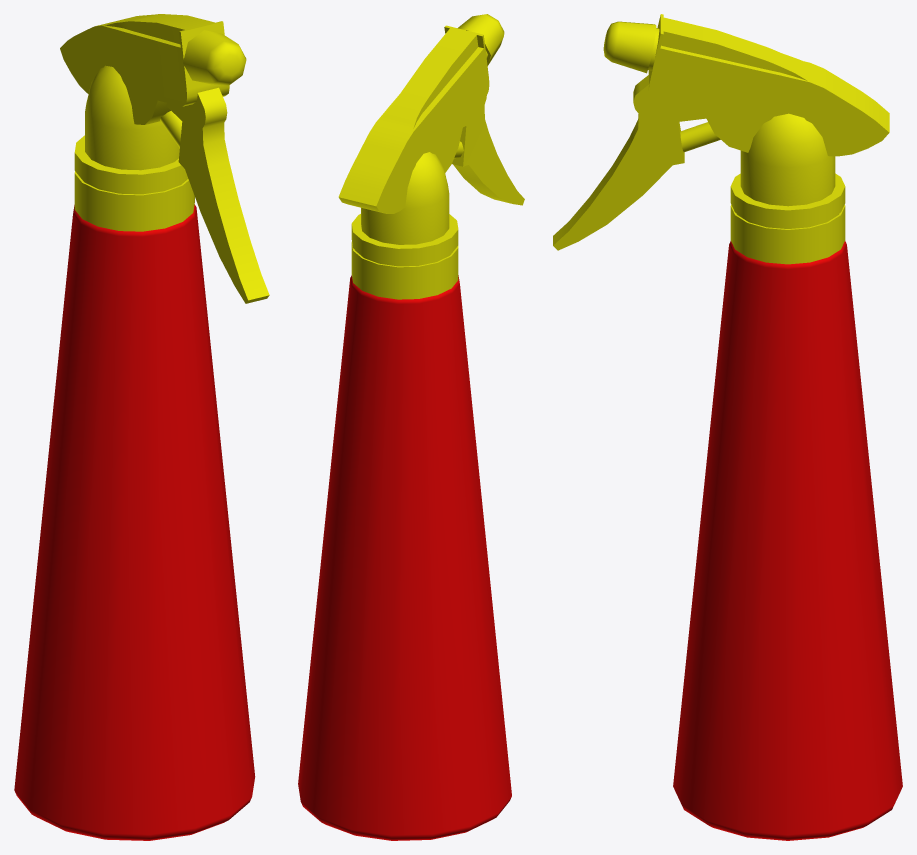
The model's file is thorkea_spray_bottles_grp.fbx.
3 views of the same model, side by side, from view 1: azimuth 30°, elevation 25°; view 2: azimuth 150°, elevation 25°; view 3: azimuth 270°, elevation 25° (orthographic). The views are drawn at different scales.
Parts seen in each view (by area): view 1: thorkea_spray_bottle_kramig; view 2: thorkea_spray_bottle_kramig; view 3: thorkea_spray_bottle_kramig.
Part boxes in pixels (box(x1,y1,x2,y2)): thorkea_spray_bottle_kramig: box(14, 14, 269, 840); thorkea_spray_bottle_kramig: box(298, 14, 524, 840); thorkea_spray_bottle_kramig: box(553, 14, 902, 840).
Size of the model in its own units: 7.09 by 26.33 by 10.79.
